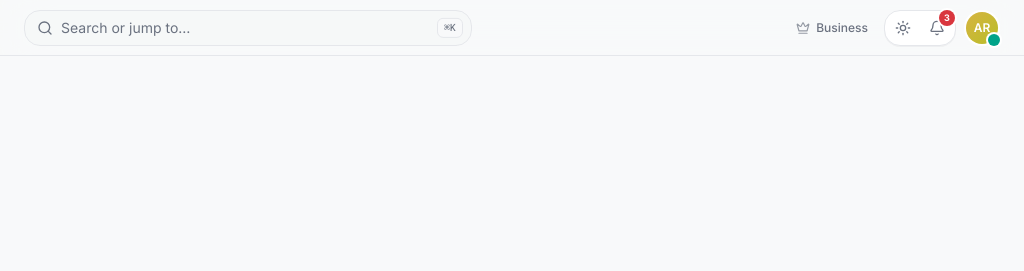
Test: Topbar account menu › identifies the signed-in owner by name, email and role label
What coordinates should you click on to do the following:
click the button with aria-label "Account menu"
I would click on:
 (982, 28)
Its box is left=964, top=10, right=1000, bottom=46.
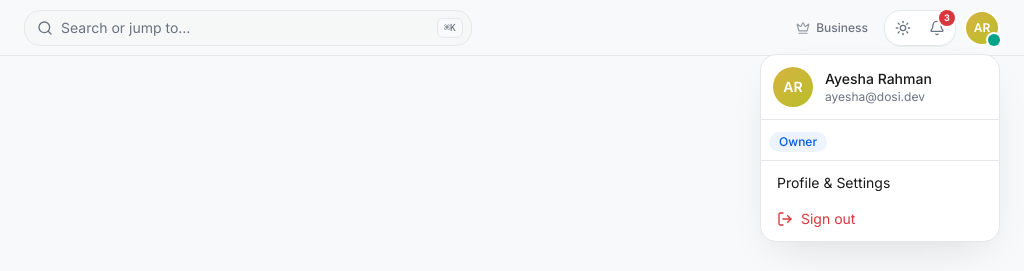
Result: the text "Ayesha Rahman" is shown at left=825, top=68, right=932, bottom=88
Result: the text "ayesha@dosi.dev" is shown at left=825, top=88, right=932, bottom=104
Result: the text "Owner" is shown at left=769, top=132, right=827, bottom=152
